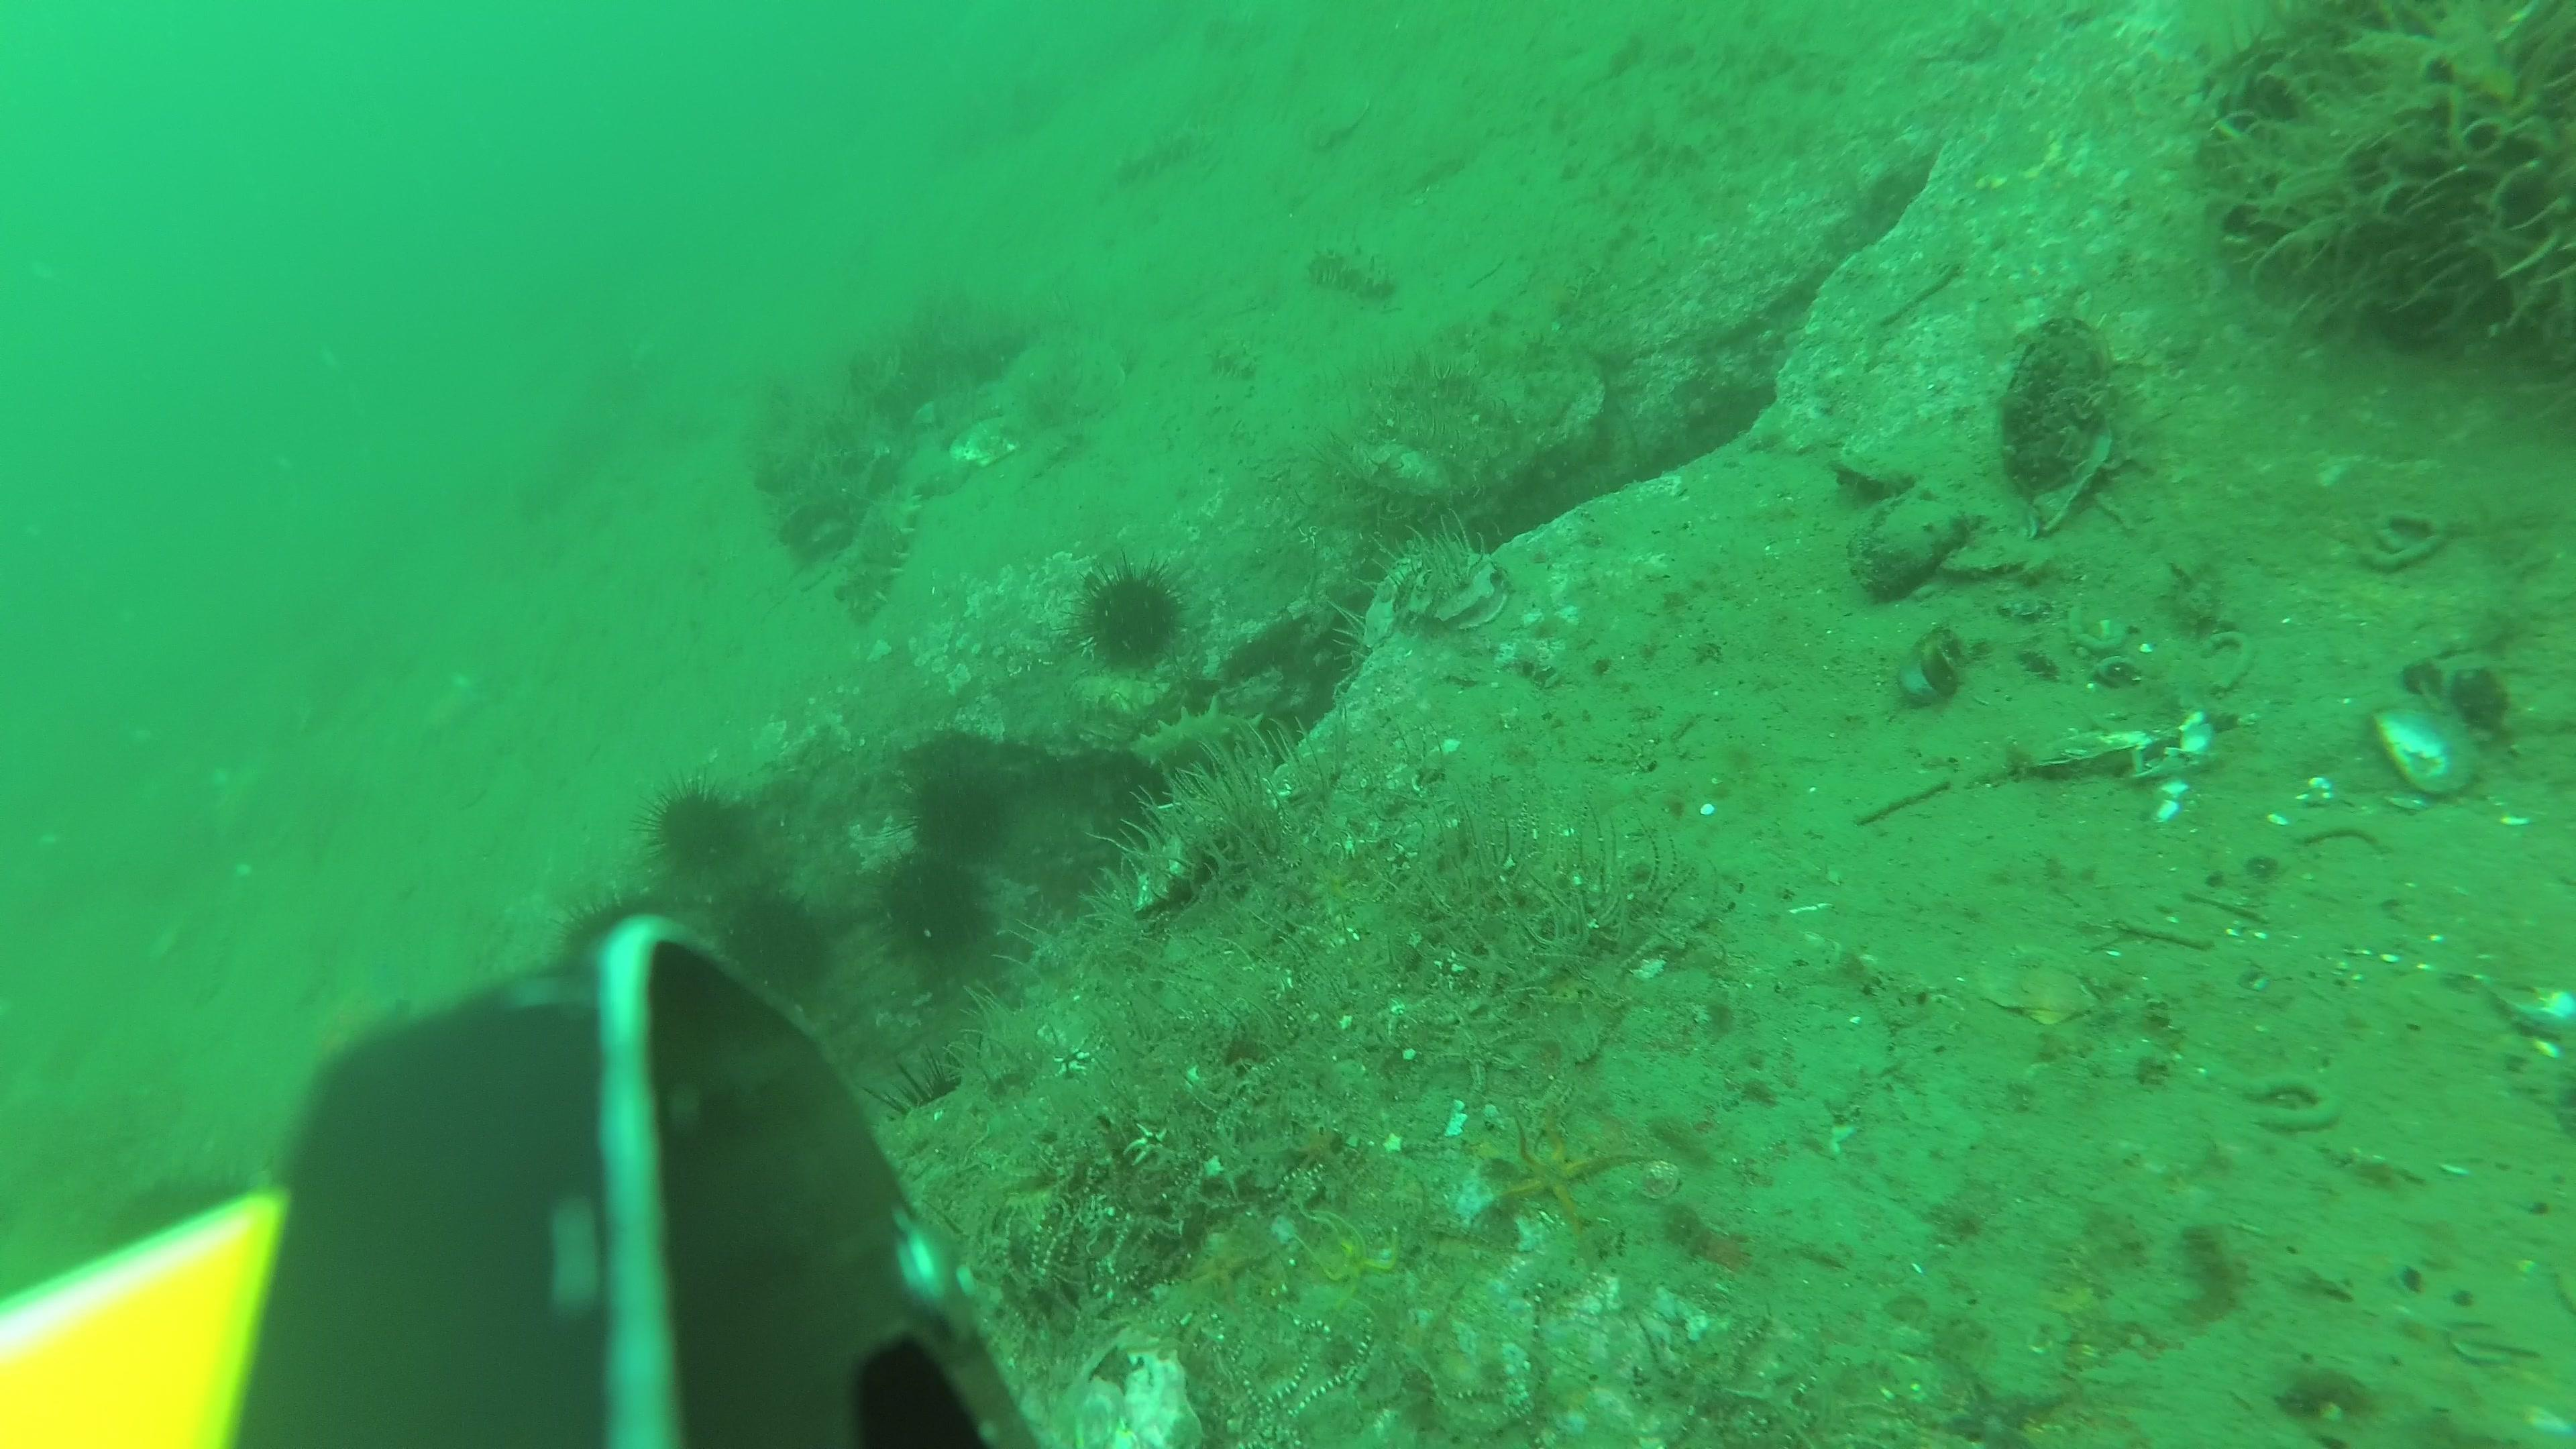echinus: (878, 1046, 1005, 1182), (885, 855, 996, 973), (122, 1171, 244, 1277), (1079, 557, 1185, 671), (648, 777, 748, 888), (564, 893, 669, 998), (913, 770, 1012, 878), (727, 895, 826, 993)
holothurian: (1136, 697, 1281, 786), (846, 487, 920, 625), (1304, 242, 1398, 306), (1129, 129, 1196, 180), (1210, 341, 1270, 387)
scallop: (1982, 941, 2098, 1033), (952, 418, 1024, 474), (1311, 88, 1369, 150)
starfish: (1502, 1122, 1640, 1224), (1306, 1219, 1401, 1306), (1194, 1246, 1263, 1293)
